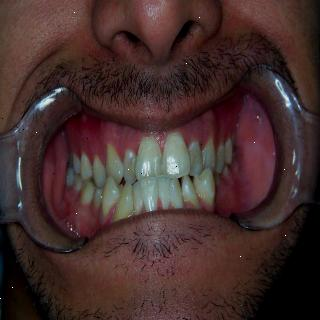LL1BC_healthy: (194, 169, 215, 204)
LLCI_healthy: (160, 179, 170, 209)
LLC_healthy: (182, 178, 201, 208)
LLLI_healthy: (169, 178, 183, 209)
LR1BC_healthy: (102, 176, 121, 216)
LR1M_mdecay: (78, 181, 94, 204)
LR2BC_healthy: (92, 188, 103, 206)
LR2M_healthy: (73, 176, 84, 190)
LR3M_healthy: (66, 168, 75, 184)
LRCI_healthy: (140, 177, 159, 211)
LRC_healthy: (113, 184, 133, 222)
LRLI_healthy: (133, 183, 143, 212)
UL1BC_healthy: (216, 144, 225, 173)
UL2BC_healthy: (225, 138, 233, 164)
ULCI_healthy: (162, 132, 190, 178)
ULC_healthy: (203, 139, 216, 172)
ULLI_healthy: (188, 142, 203, 177)
UR1BC_healthy: (92, 154, 105, 187)
UR1M_healthy: (72, 153, 80, 174)
UR2BC_healthy: (80, 152, 92, 180)
URCI_healthy: (135, 136, 164, 180)
URC_healthy: (105, 143, 123, 185)
URLI_healthy: (123, 150, 136, 184)
